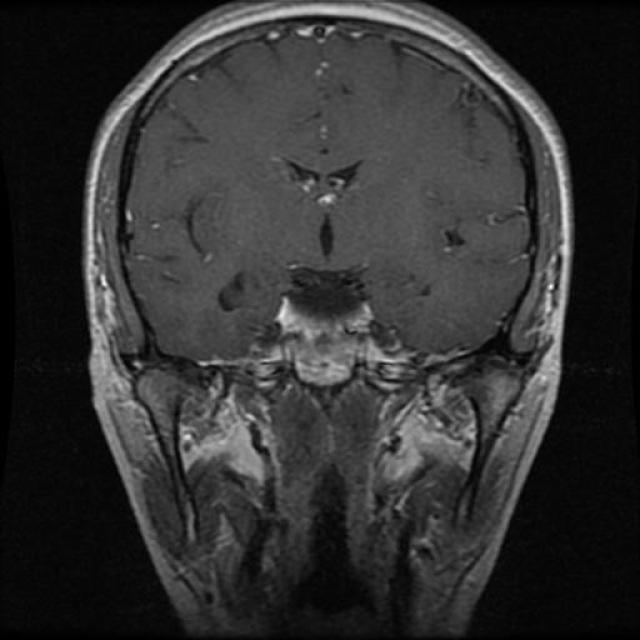pituitary: (276, 293, 371, 388)
